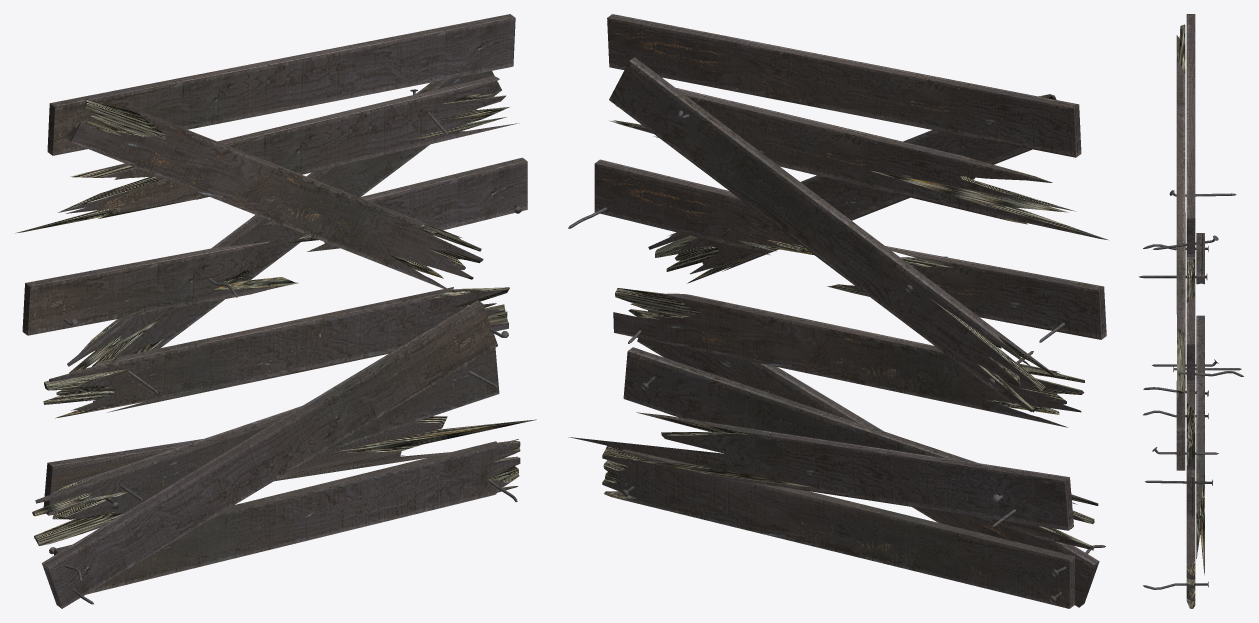
The model's file is SM_BoardsA.FBX.
3 views of the same model, side by side, from view 1: azimuth 30°, elevation 25°; view 2: azimuth 150°, elevation 25°; view 3: azimuth 270°, elevation 25° (orthographic). The views are drawn at different scales.
Visible parts, largest first — view 1: SM_BoardsA_LOD0; view 2: SM_BoardsA_LOD0; view 3: SM_BoardsA_LOD0.
Part boxes in pixels (bbox=[...]): SM_BoardsA_LOD0: bbox=[15, 14, 536, 608]; SM_BoardsA_LOD0: bbox=[568, 14, 1107, 608]; SM_BoardsA_LOD0: bbox=[1139, 14, 1243, 608].
Size of what is drawn, in the model's own units: 129 by 117 by 27.24.
